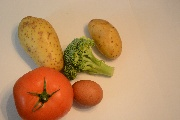broccoli: (63, 35, 115, 79)
egg: (71, 78, 104, 107)
potato: (19, 15, 63, 71), (87, 17, 122, 58)
tomato: (13, 67, 73, 120)
